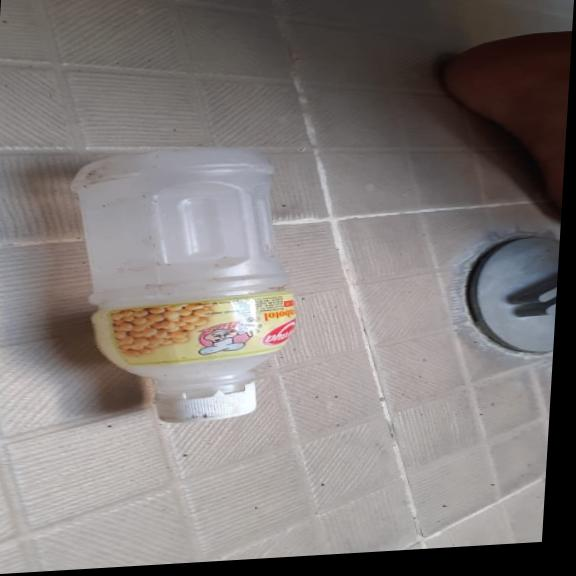Plastik: (49, 139, 312, 434)
